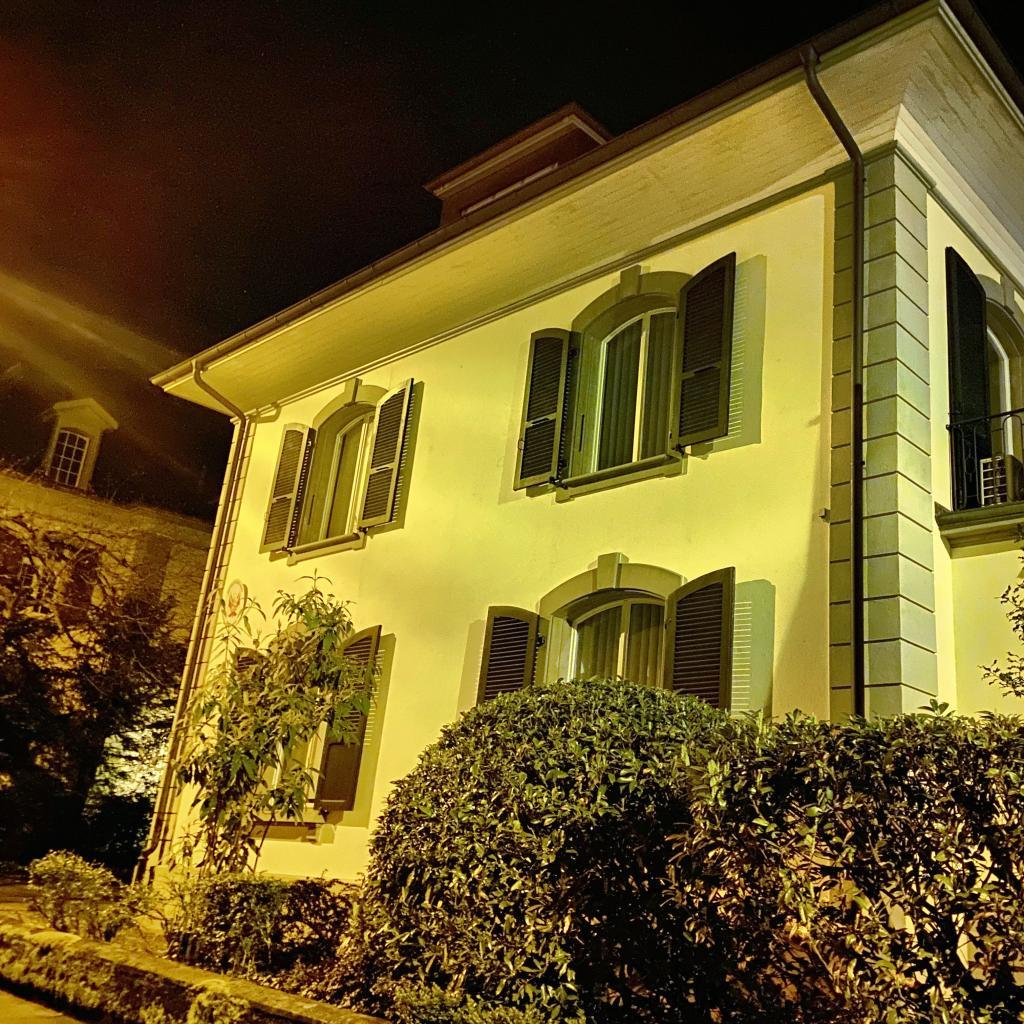balcony-fence: (943, 406, 1024, 513)
facade: (135, 0, 1024, 882), (0, 397, 209, 796)
vegetation: (22, 518, 1024, 1024), (0, 499, 187, 880)
window: (591, 304, 674, 473), (0, 525, 104, 630), (566, 596, 667, 689), (317, 410, 376, 540), (46, 430, 90, 489)
